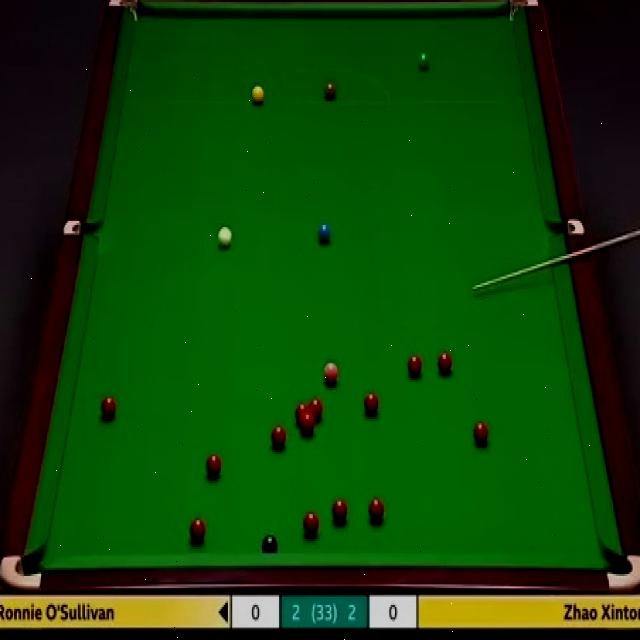black-ball: (261, 535, 278, 552)
blue-ball: (316, 222, 331, 244)
brown-ball: (323, 81, 337, 101)
green-ball: (418, 49, 430, 69)
pink-ball: (322, 356, 337, 381)
red-ball: (269, 423, 288, 450), (331, 498, 348, 526), (204, 453, 223, 478), (188, 516, 206, 542), (306, 396, 324, 421), (300, 411, 316, 439), (472, 419, 488, 447), (302, 510, 319, 536), (437, 349, 452, 376), (217, 225, 233, 250), (368, 498, 385, 521), (364, 391, 379, 415), (100, 397, 116, 419), (296, 402, 310, 427), (407, 355, 423, 376)
yellow-ball: (249, 85, 265, 105)
